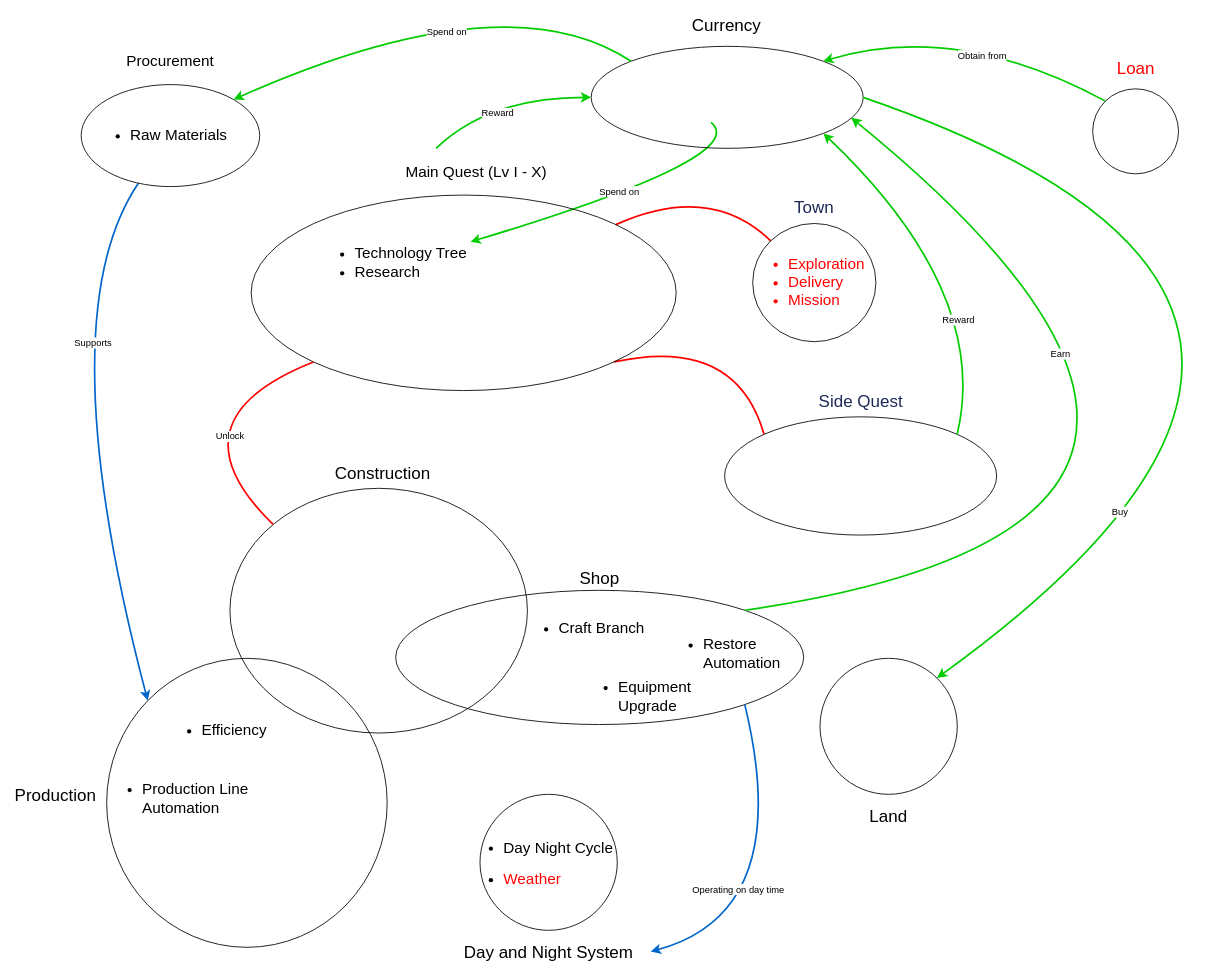
Image size: 1227x978. Some labels were removed from this diagram. Each missing label, with the centre of its shape:
"Copper Sliver Gold" goes at (x=726, y=96).
"Random Quest Urgent Quest" goes at (x=860, y=475).
